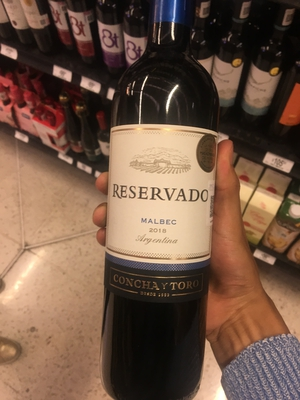reservado malbec: (100, 14, 213, 400)
